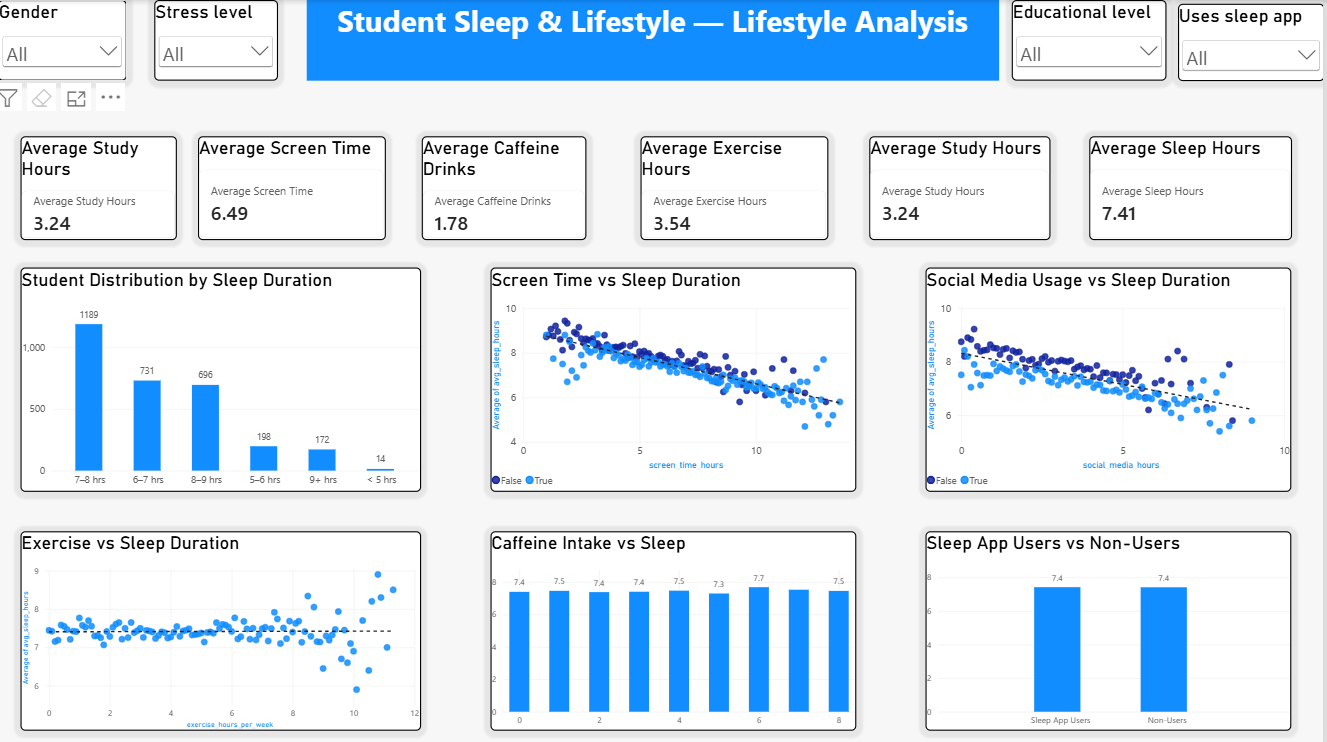

The dashboard page shown, as its layout file describes it:
{"tool":"powerbi","page":{"name":"Lifestyle Analysis","canvas":[1920,1080],"ordinal":1},"visuals":[{"type":"textbox","box":[446.2,0,1002.1,116.9],"z":0},{"type":"slicer","title":"Stress level","fields":{"Values":["student_sleep.stress_level","student_sleep.uses_sleep_app"]},"box":[226.7,0,178.9,116.9],"z":1000},{"type":"slicer","title":"Uses sleep app","fields":{"Values":["student_sleep.uses_sleep_app"]},"box":[1708.3,4.8,212.3,112.1],"z":2000},{"type":"slicer","title":"Educational level","fields":{"Values":["student_sleep.education_level"]},"box":[1467.3,0,224.3,116.9],"z":3000},{"type":"slicer","title":"Gender","fields":{"Values":["student_sleep.gender","student_sleep.education_level"]},"box":[0,0,186.1,116.9],"z":4000},{"type":"cardVisual","title":"Average Study Hours","fields":{"Data":["measure.Average Study Hours"]},"box":[33.4,198,226.7,150.3],"z":5000},{"type":"cardVisual","title":"Average Sleep Hours","fields":{"Data":["measure.Average Sleep Hours"]},"box":[1579.5,198,293.5,150.3],"z":6000},{"type":"cardVisual","title":"Average Exercise Hours","fields":{"Data":["measure.Average Exercise Hours"]},"box":[930.5,198,272,150.3],"z":7000},{"type":"cardVisual","title":"Average Study Hours","fields":{"Data":["measure.Average Study Hours"]},"box":[1262.1,198,262.5,150.3],"z":8000},{"type":"cardVisual","title":"Average Screen Time","fields":{"Data":["measure.Average Screen Time"]},"box":[288.7,198,272,150.3],"z":9000},{"type":"cardVisual","title":"Average Caffeine Drinks","fields":{"Data":["measure.Average Caffeine Drinks"]},"box":[613.2,198,238.6,150.3],"z":10000},{"type":"columnChart","title":"Student Distribution by Sleep Duration","fields":{"Category":["student_sleep.Sleep Band"],"Y":["CountNonNull(student_sleep.student_id)"]},"box":[33.4,386.5,579.8,324.5],"z":11000},{"type":"scatterChart","title":"Screen Time vs Sleep Duration","fields":{"X":["student_sleep.screen_time_hours"],"Y":["Avg(student_sleep.avg_sleep_hours)"],"Series":["student_sleep.feels_burned_out"]},"box":[713.4,386.5,529.7,324.5],"z":12000},{"type":"scatterChart","title":"Social Media Usage vs Sleep Duration","fields":{"X":["student_sleep.social_media_hours"],"Y":["Avg(student_sleep.avg_sleep_hours)"],"Series":["student_sleep.feels_burned_out"]},"box":[1343.3,386.5,529.7,324.5],"z":13000},{"type":"scatterChart","title":"Exercise vs Sleep Duration","fields":{"X":["student_sleep.exercise_hours_per_week"],"Y":["Avg(student_sleep.avg_sleep_hours)"]},"box":[33.4,768.3,579.8,288.7],"z":14000},{"type":"clusteredColumnChart","title":"Caffeine Intake vs Sleep","fields":{"Y":["Avg(student_sleep.avg_sleep_hours)"],"Category":["student_sleep.caffeine_drinks_per_day"]},"box":[713.4,768.3,529.7,288.7],"z":15000},{"type":"clusteredColumnChart","title":"Sleep App Users vs Non-Users","fields":{"Y":["Avg(student_sleep.avg_sleep_hours)"],"Category":["student_sleep.Sleep App Usage"]},"box":[1343.3,768.3,529.7,288.7],"z":16000}]}

Visuals, with their boxes on the page's 1920x1080 design canvas (x1, y1, x2, y2). These are canvas units, not pixel positions in the 1327x742 screenshot, which may show the page scaled, cropped or inside an application window:
textbox: pyautogui.locateOnScreen(446, 0, 1448, 117)
"Stress level" slicer: pyautogui.locateOnScreen(227, 0, 406, 117)
"Uses sleep app" slicer: pyautogui.locateOnScreen(1708, 5, 1921, 117)
"Educational level" slicer: pyautogui.locateOnScreen(1467, 0, 1692, 117)
"Gender" slicer: pyautogui.locateOnScreen(0, 0, 186, 117)
"Average Study Hours" cardVisual: pyautogui.locateOnScreen(33, 198, 260, 348)
"Average Sleep Hours" cardVisual: pyautogui.locateOnScreen(1580, 198, 1873, 348)
"Average Exercise Hours" cardVisual: pyautogui.locateOnScreen(930, 198, 1202, 348)
"Average Study Hours" cardVisual: pyautogui.locateOnScreen(1262, 198, 1525, 348)
"Average Screen Time" cardVisual: pyautogui.locateOnScreen(289, 198, 561, 348)
"Average Caffeine Drinks" cardVisual: pyautogui.locateOnScreen(613, 198, 852, 348)
"Student Distribution by Sleep Duration" columnChart: pyautogui.locateOnScreen(33, 386, 613, 711)
"Screen Time vs Sleep Duration" scatterChart: pyautogui.locateOnScreen(713, 386, 1243, 711)
"Social Media Usage vs Sleep Duration" scatterChart: pyautogui.locateOnScreen(1343, 386, 1873, 711)
"Exercise vs Sleep Duration" scatterChart: pyautogui.locateOnScreen(33, 768, 613, 1057)
"Caffeine Intake vs Sleep" clusteredColumnChart: pyautogui.locateOnScreen(713, 768, 1243, 1057)
"Sleep App Users vs Non-Users" clusteredColumnChart: pyautogui.locateOnScreen(1343, 768, 1873, 1057)
